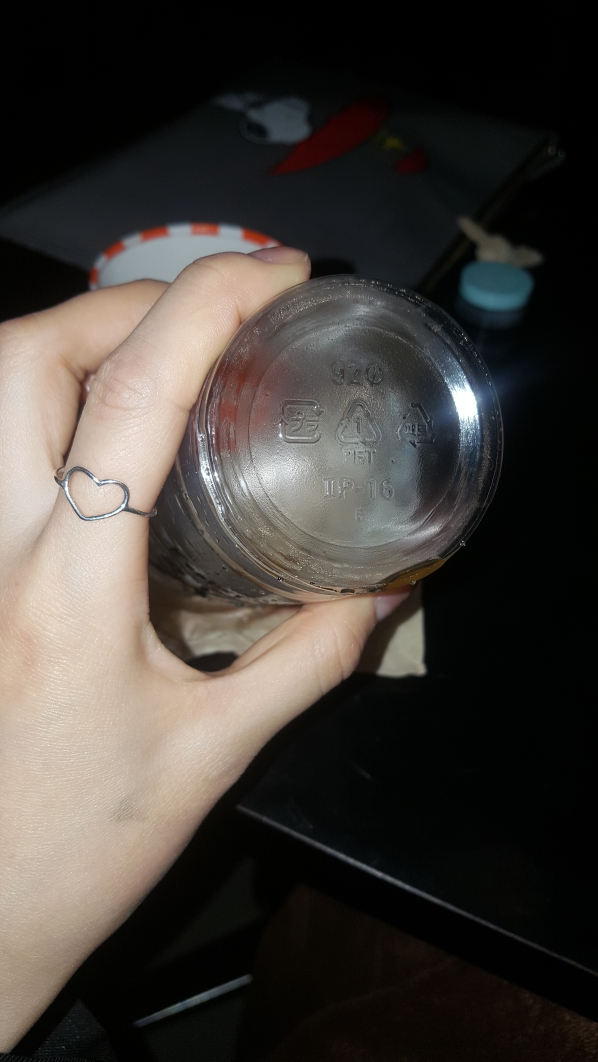recycle: (335, 395, 389, 470)
